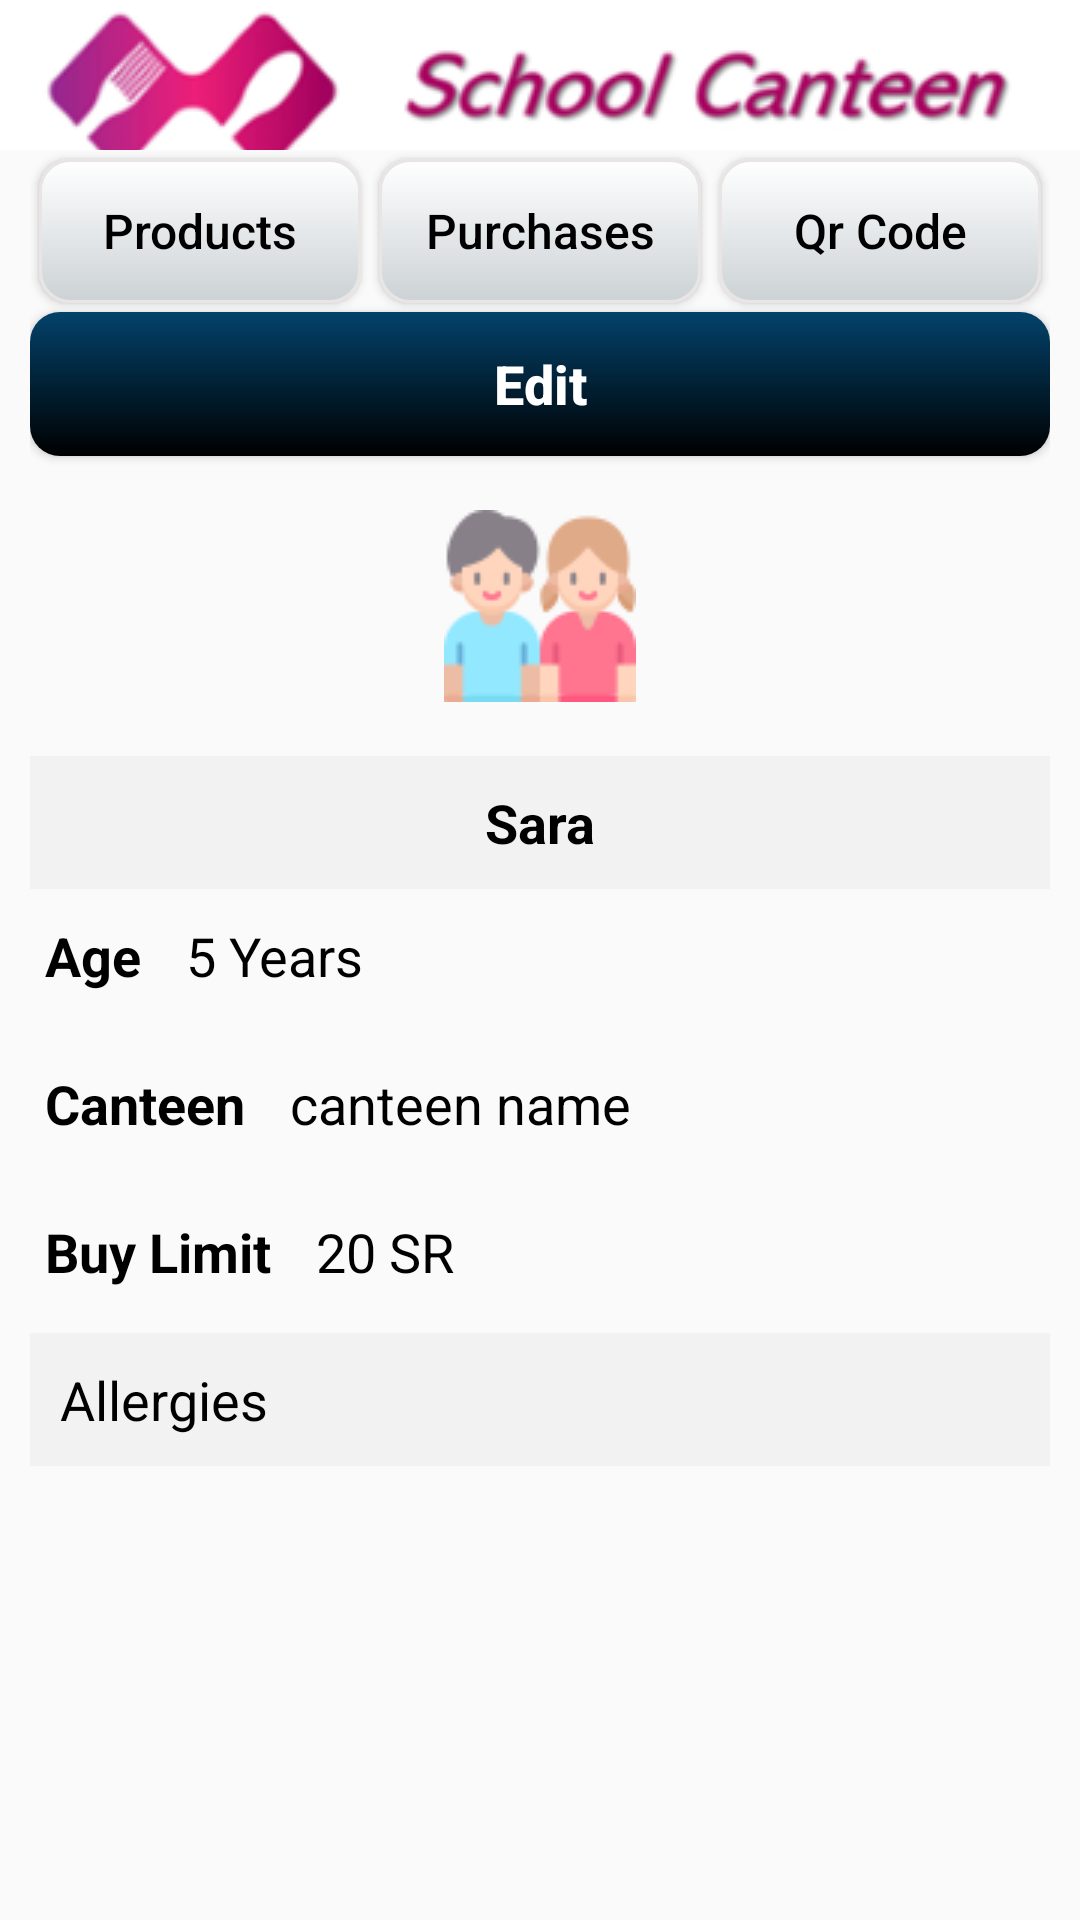

Named icons in this screenshot (1080 x 1920) and their centers, (x,y):
children: (540,606)
